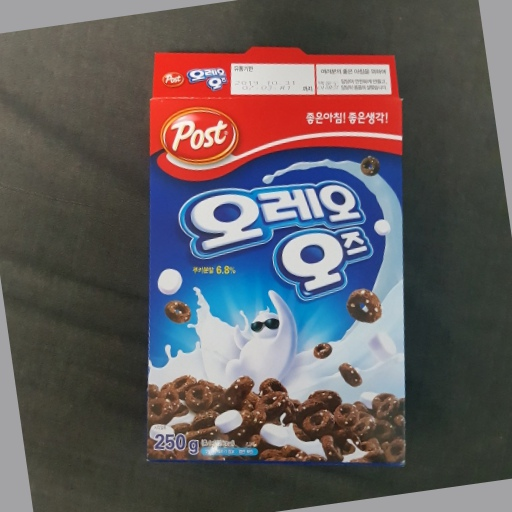Paper_0: (143, 37, 418, 471)
